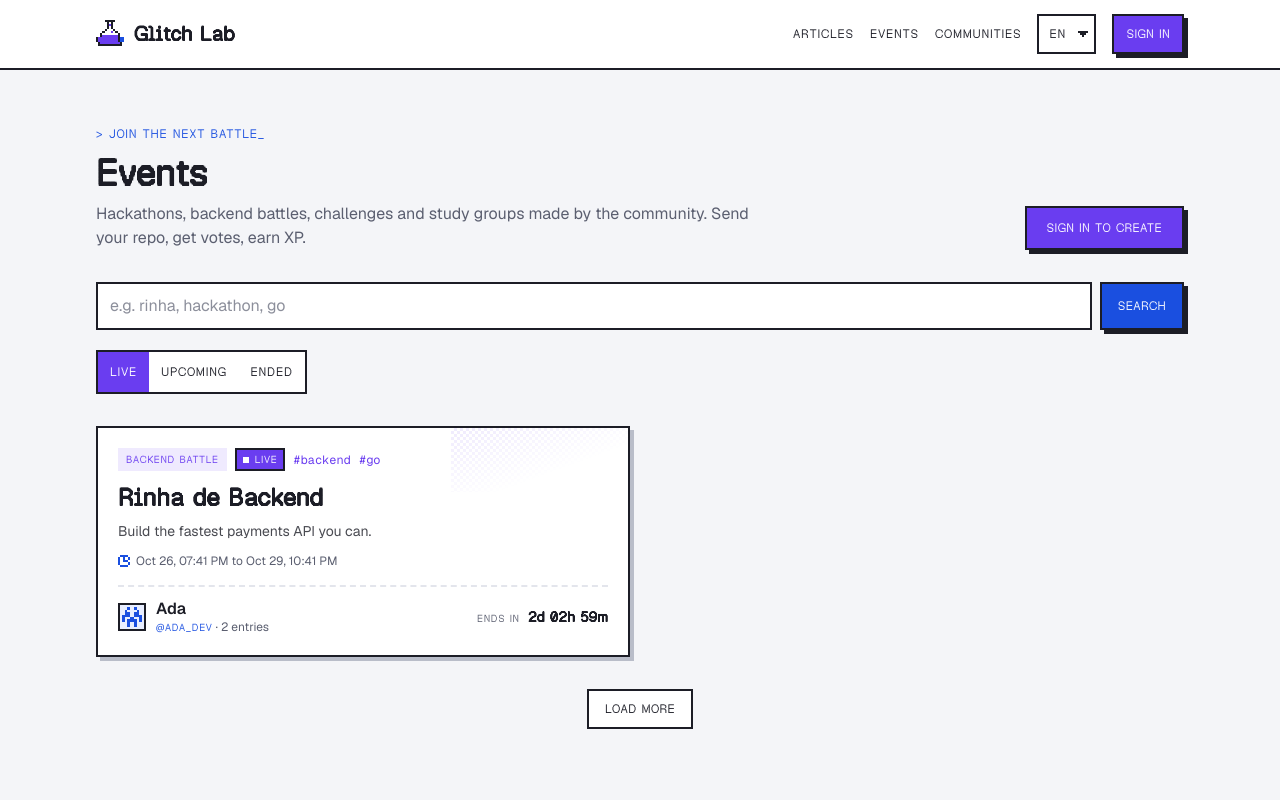
loads more events
The image size is (1280, 800).
Step 1. Click the button "Load more" → [640, 709], box [587,689,693,729]
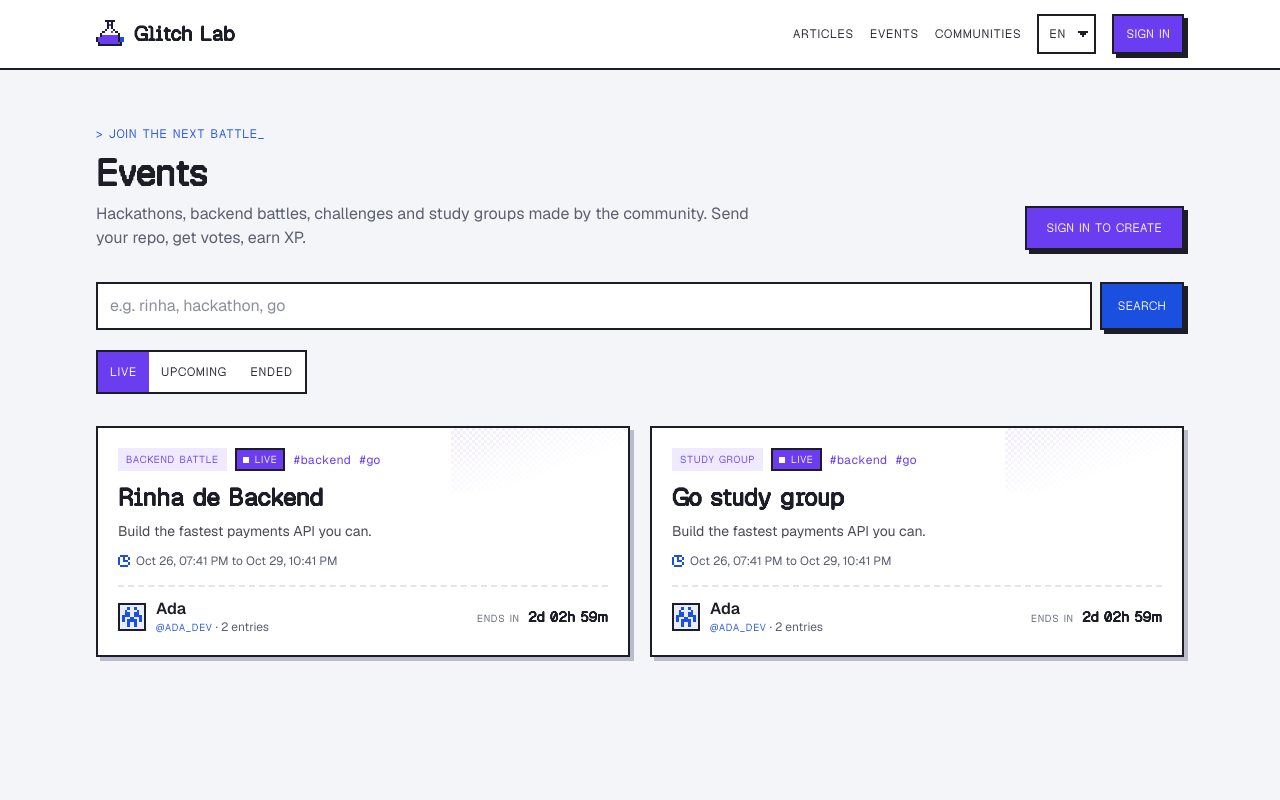
expect the link "Go study group" is shown: met, box [672,482,844,513]
expect the button "Load more" is gone: met
